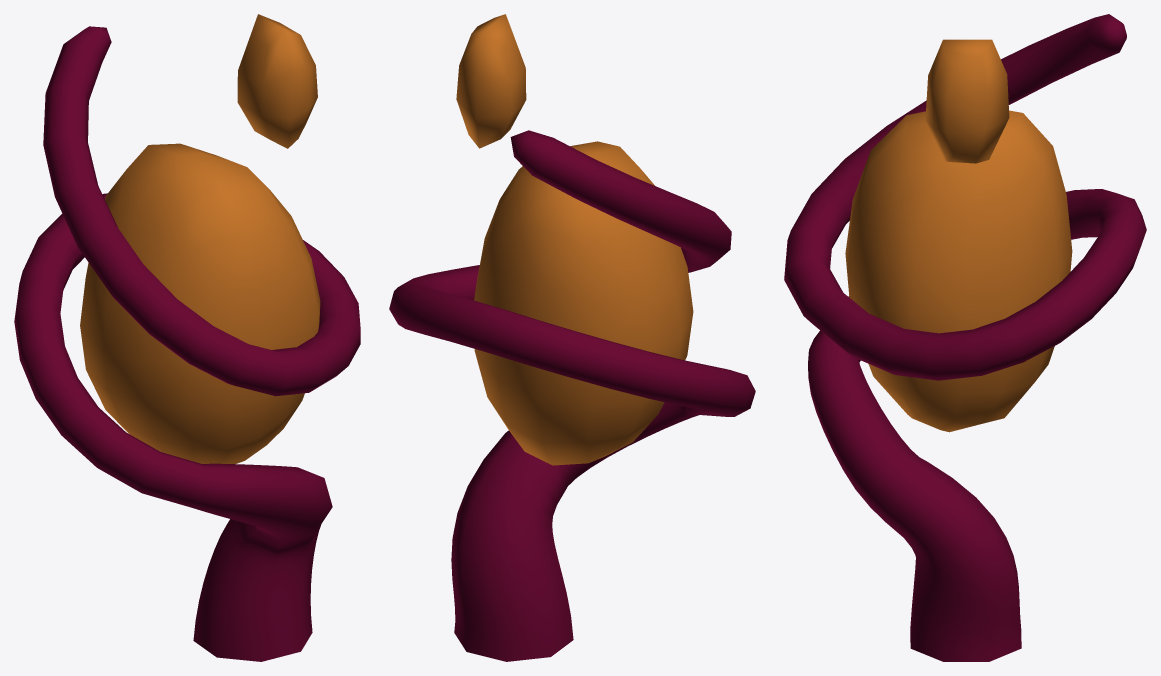
File: Tree_Lava_3-transformed.glb
3 views of the same model, side by side, from view 1: azimuth 30°, elevation 25°; view 2: azimuth 150°, elevation 25°; view 3: azimuth 270°, elevation 25° (orthographic).
Visible parts, largest first — view 1: Tree_Lava_3; view 2: Tree_Lava_3; view 3: Tree_Lava_3.
Boxes of the visible parts, x1=… form: Tree_Lava_3: x1=14, y1=14, x2=360, y2=661; Tree_Lava_3: x1=389, y1=14, x2=755, y2=661; Tree_Lava_3: x1=784, y1=14, x2=1146, y2=661.
Size of the model in its own units: 1.12 by 2.09 by 1.13.
Materials: 1 (1 with a texture image).
